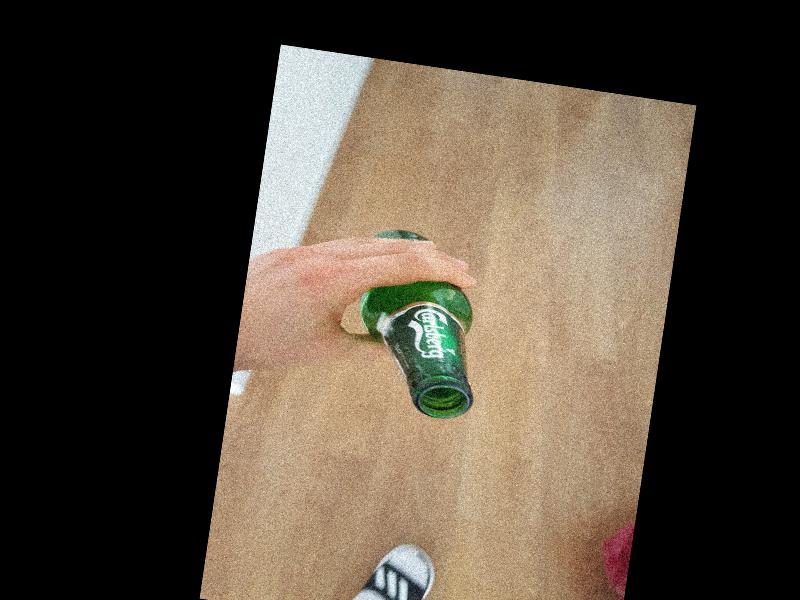Beer: (346, 226, 497, 422)
